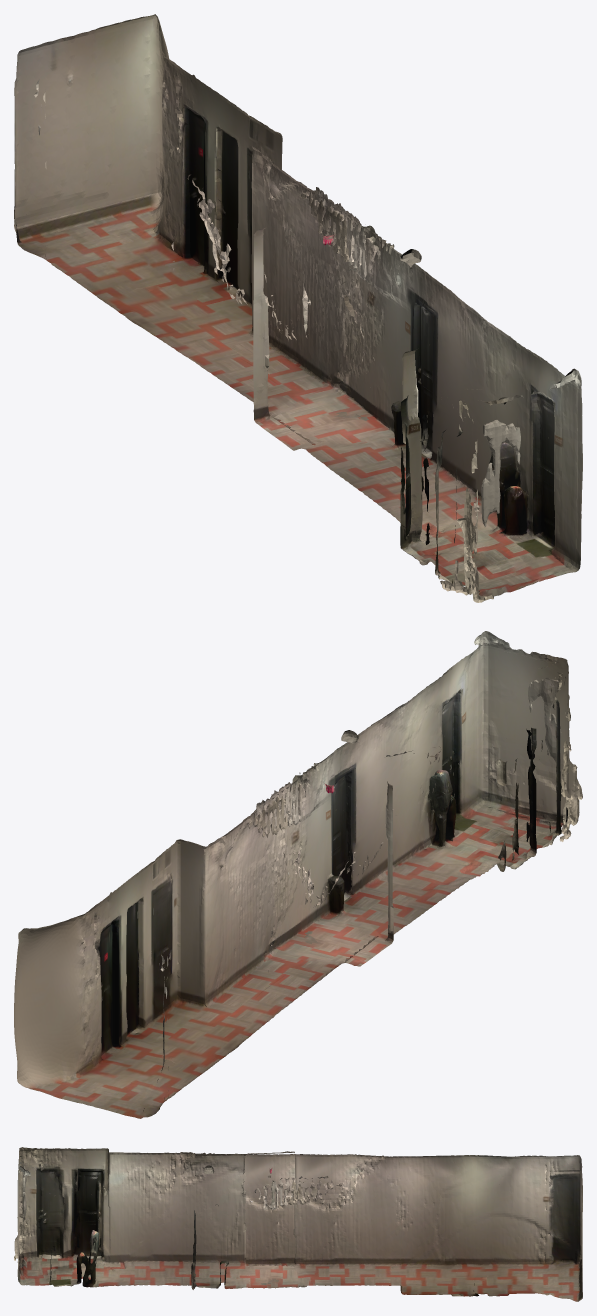
File: Hallway.glb
The picture shows the model from 3 angles, top to bottom: view 1: azimuth 30°, elevation 25°; view 2: azimuth 150°, elevation 25°; view 3: azimuth 270°, elevation 25°; orthographic projection. The views are drawn at different scales.
Parts seen in each view (by area): view 1: Mesh_1; view 2: Mesh_1; view 3: Mesh_1.
Part boxes in pixels (x1,y1,x2,y2): Mesh_1: (14, 14, 582, 602); Mesh_1: (14, 631, 582, 1118); Mesh_1: (14, 1147, 582, 1301).
Bounding box in the file's own units: 2.82 × 2.96 × 12.62.
Materials: 3 (3 with a texture image).
